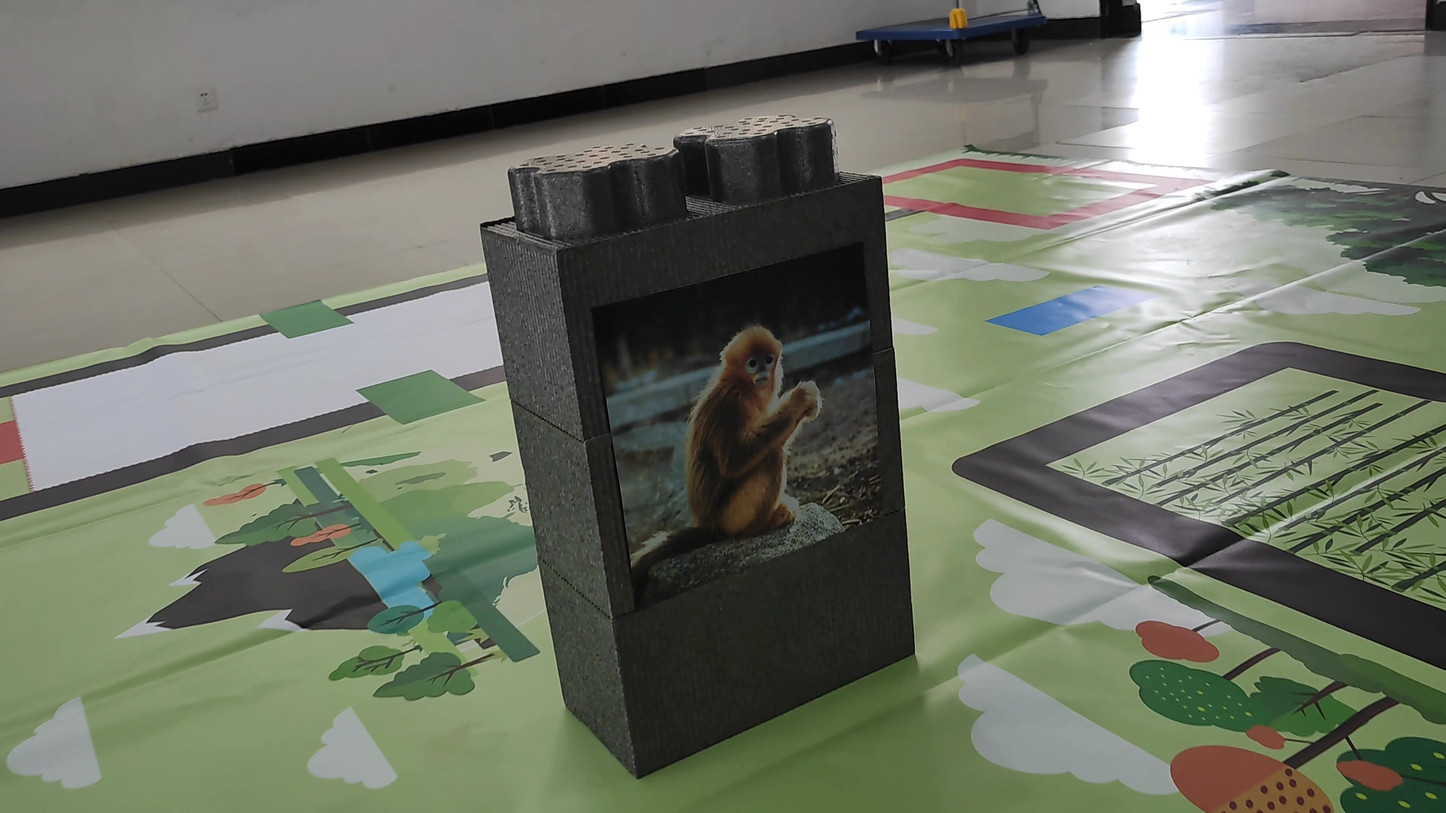monkey: (621, 314, 847, 568)
